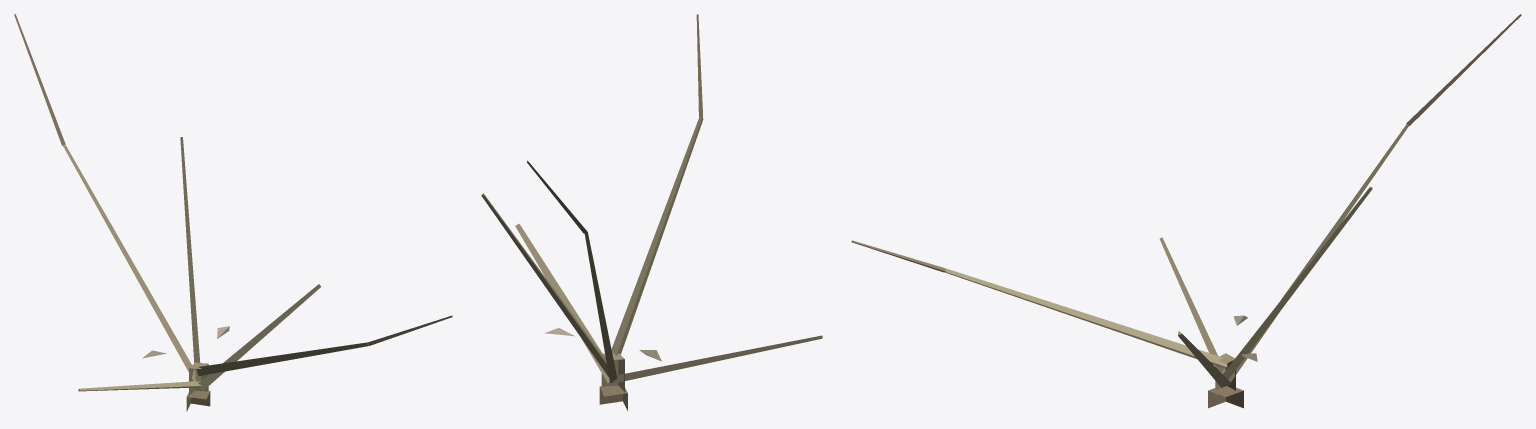
File: shu.lengshan@withered__summer.glb
The picture shows the model from 3 angles, left to right: view 1: azimuth 30°, elevation 25°; view 2: azimuth 150°, elevation 25°; view 3: azimuth 270°, elevation 25°; orthographic projection. The views are drawn at different scales.
Visible parts, largest first — view 1: shu.lengshan@withered__summer; view 2: shu.lengshan@withered__summer; view 3: shu.lengshan@withered__summer.
Part boxes in pixels (x1,y1,x2,y2): shu.lengshan@withered__summer: (14,14,452,411); shu.lengshan@withered__summer: (481,14,822,410); shu.lengshan@withered__summer: (851,14,1521,408).
Bounding box in the file's own units: 5.41 × 6.53 × 10.92.
